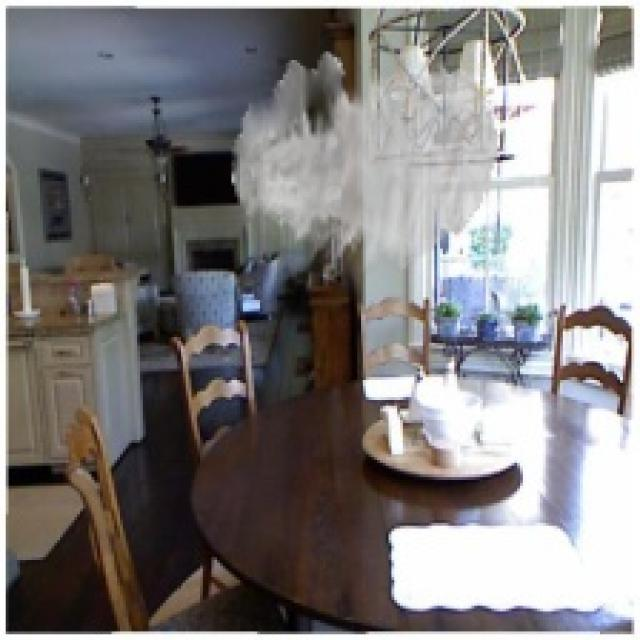smoke: (232, 52, 497, 274)
